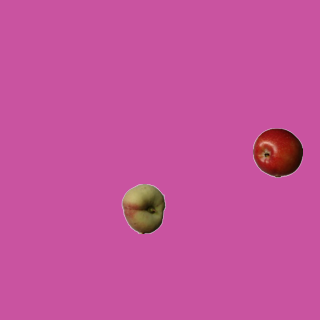Apple Braeburn: (252, 127, 302, 177)
Peach Flat: (118, 183, 168, 233)
